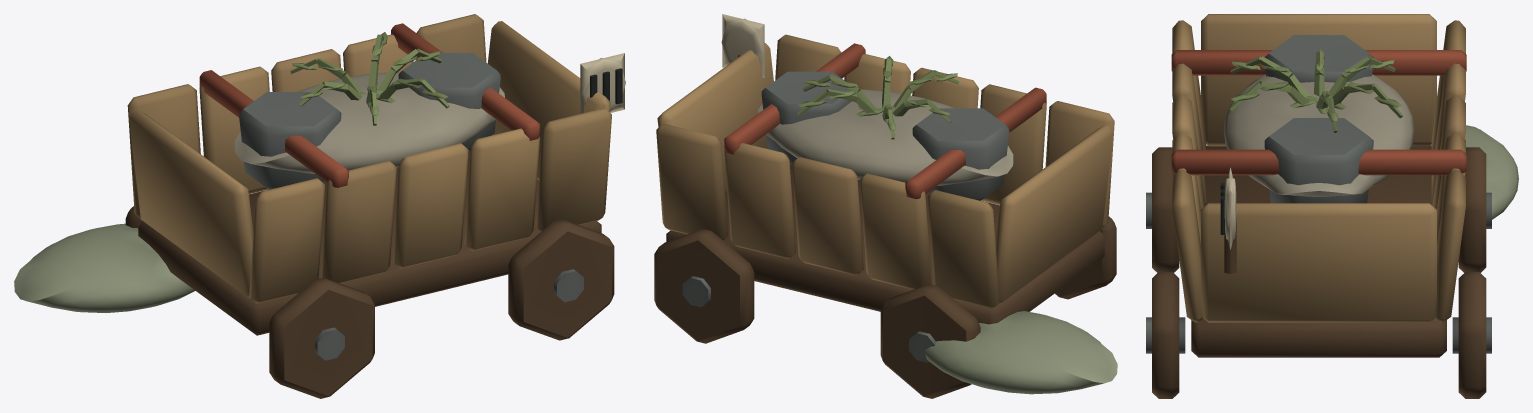
Rendered from tin_cart_c.glb.
The picture shows the model from 3 angles, left to right: view 1: azimuth 30°, elevation 25°; view 2: azimuth 150°, elevation 25°; view 3: azimuth 270°, elevation 25°; orthographic projection. The views are drawn at different scales.
Visible parts, largest first — view 1: Surface; view 2: Surface; view 3: Surface.
Boxes of the visible parts, box(x1,y1,x2,y2) form: Surface: box(14, 14, 625, 398); Surface: box(654, 14, 1117, 398); Surface: box(1146, 14, 1518, 398).
Bounding box in the file's own units: 3.19 × 1.51 × 1.9.
